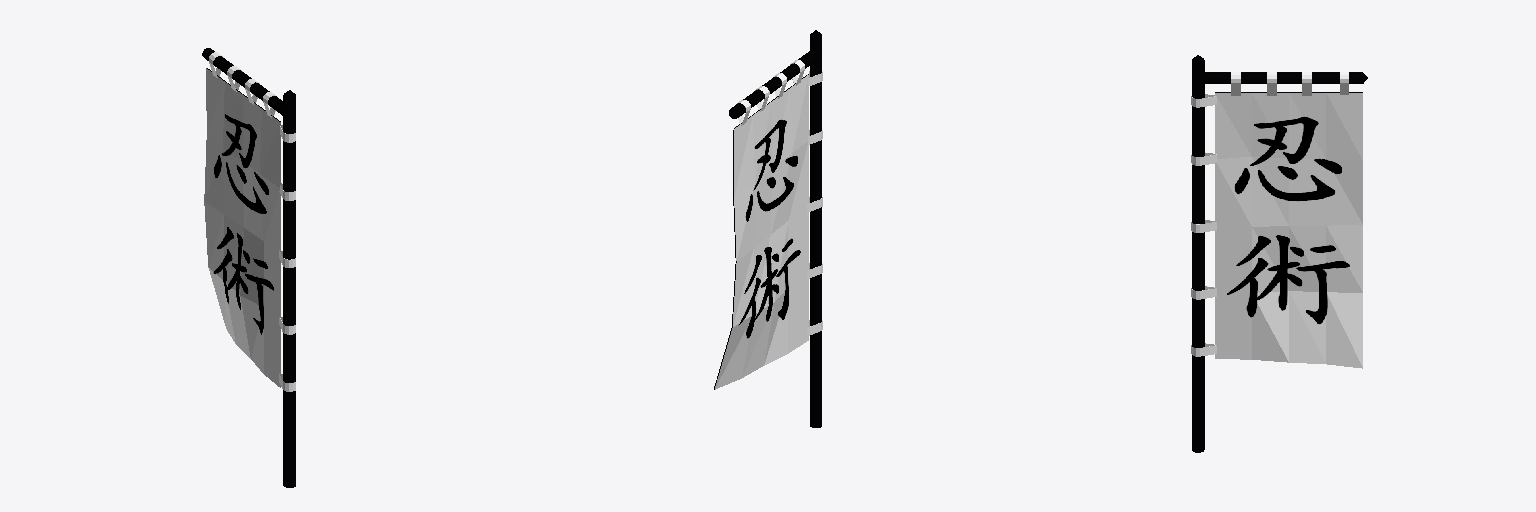
3 views of the same model, side by side, from view 1: azimuth 30°, elevation 25°; view 2: azimuth 150°, elevation 25°; view 3: azimuth 270°, elevation 25° (orthographic).
Visible parts, largest first — view 1: 1, 0; view 2: 1, 0; view 3: 1, 0.
Boxes of the visible parts, x1,y1,x2,y2 form: 1: [204, 52, 295, 391]; 0: [202, 48, 295, 487]; 1: [715, 60, 822, 389]; 0: [714, 30, 821, 427]; 1: [1191, 72, 1362, 368]; 0: [1192, 55, 1367, 452].
Bounding box in the file's own units: 0.0707 × 1.04 × 0.4221.
Materials: 2 (1 with a texture image).